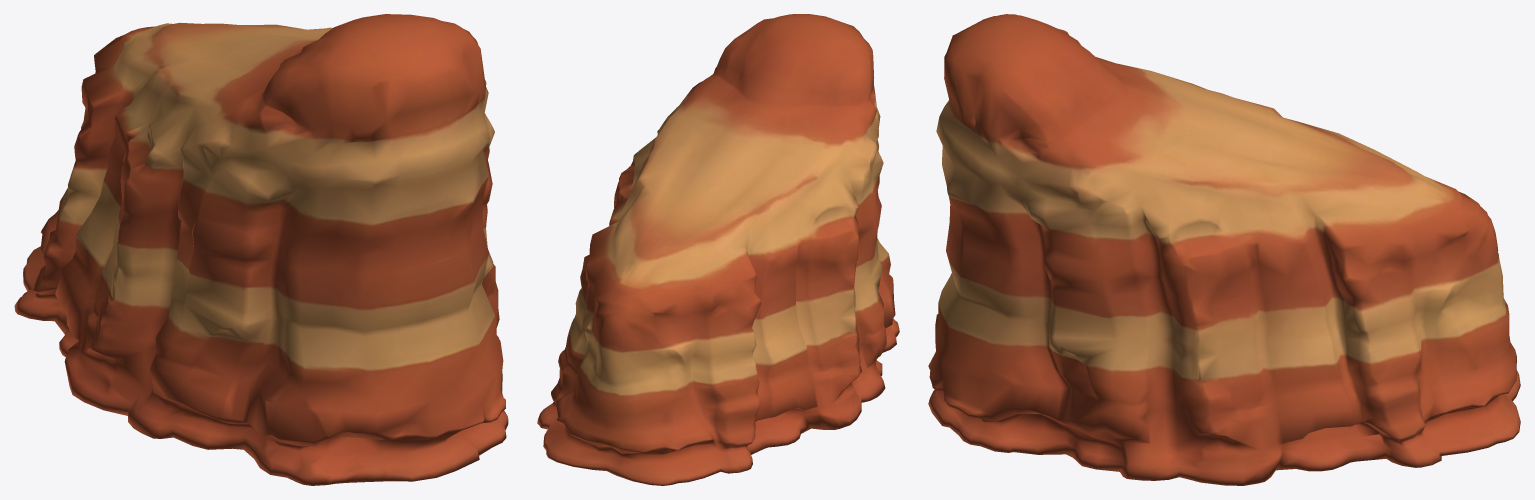
File: SM_Tripo_DesertYardangSmall.glb
The picture shows the model from 3 angles, left to right: view 1: azimuth 30°, elevation 25°; view 2: azimuth 150°, elevation 25°; view 3: azimuth 270°, elevation 25°; orthographic projection. The views are drawn at different scales.
Parts seen in each view (by area): view 1: SM_Tripo_DesertYardangSmall_LOD0; view 2: SM_Tripo_DesertYardangSmall_LOD0; view 3: SM_Tripo_DesertYardangSmall_LOD0.
Part boxes in pixels (x1,y1,x2,y2): SM_Tripo_DesertYardangSmall_LOD0: (14,14,508,485); SM_Tripo_DesertYardangSmall_LOD0: (537,14,899,485); SM_Tripo_DesertYardangSmall_LOD0: (928,14,1520,485).
Size of the model in its own units: 3.76 by 4 by 5.74.
1 material, 1 textured.
